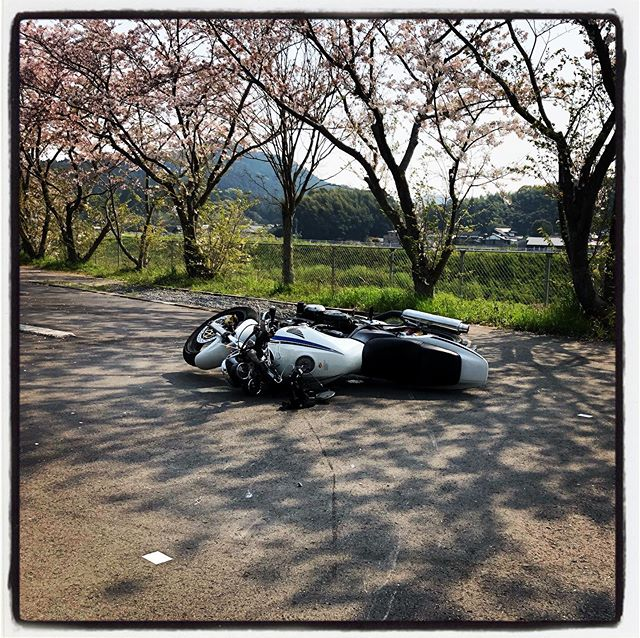motorcycle: (179, 294, 487, 412)
road: (33, 278, 640, 638)
tree: (328, 1, 495, 301), (503, 1, 640, 303), (1, 38, 171, 276), (85, 41, 252, 275), (226, 29, 363, 288)
